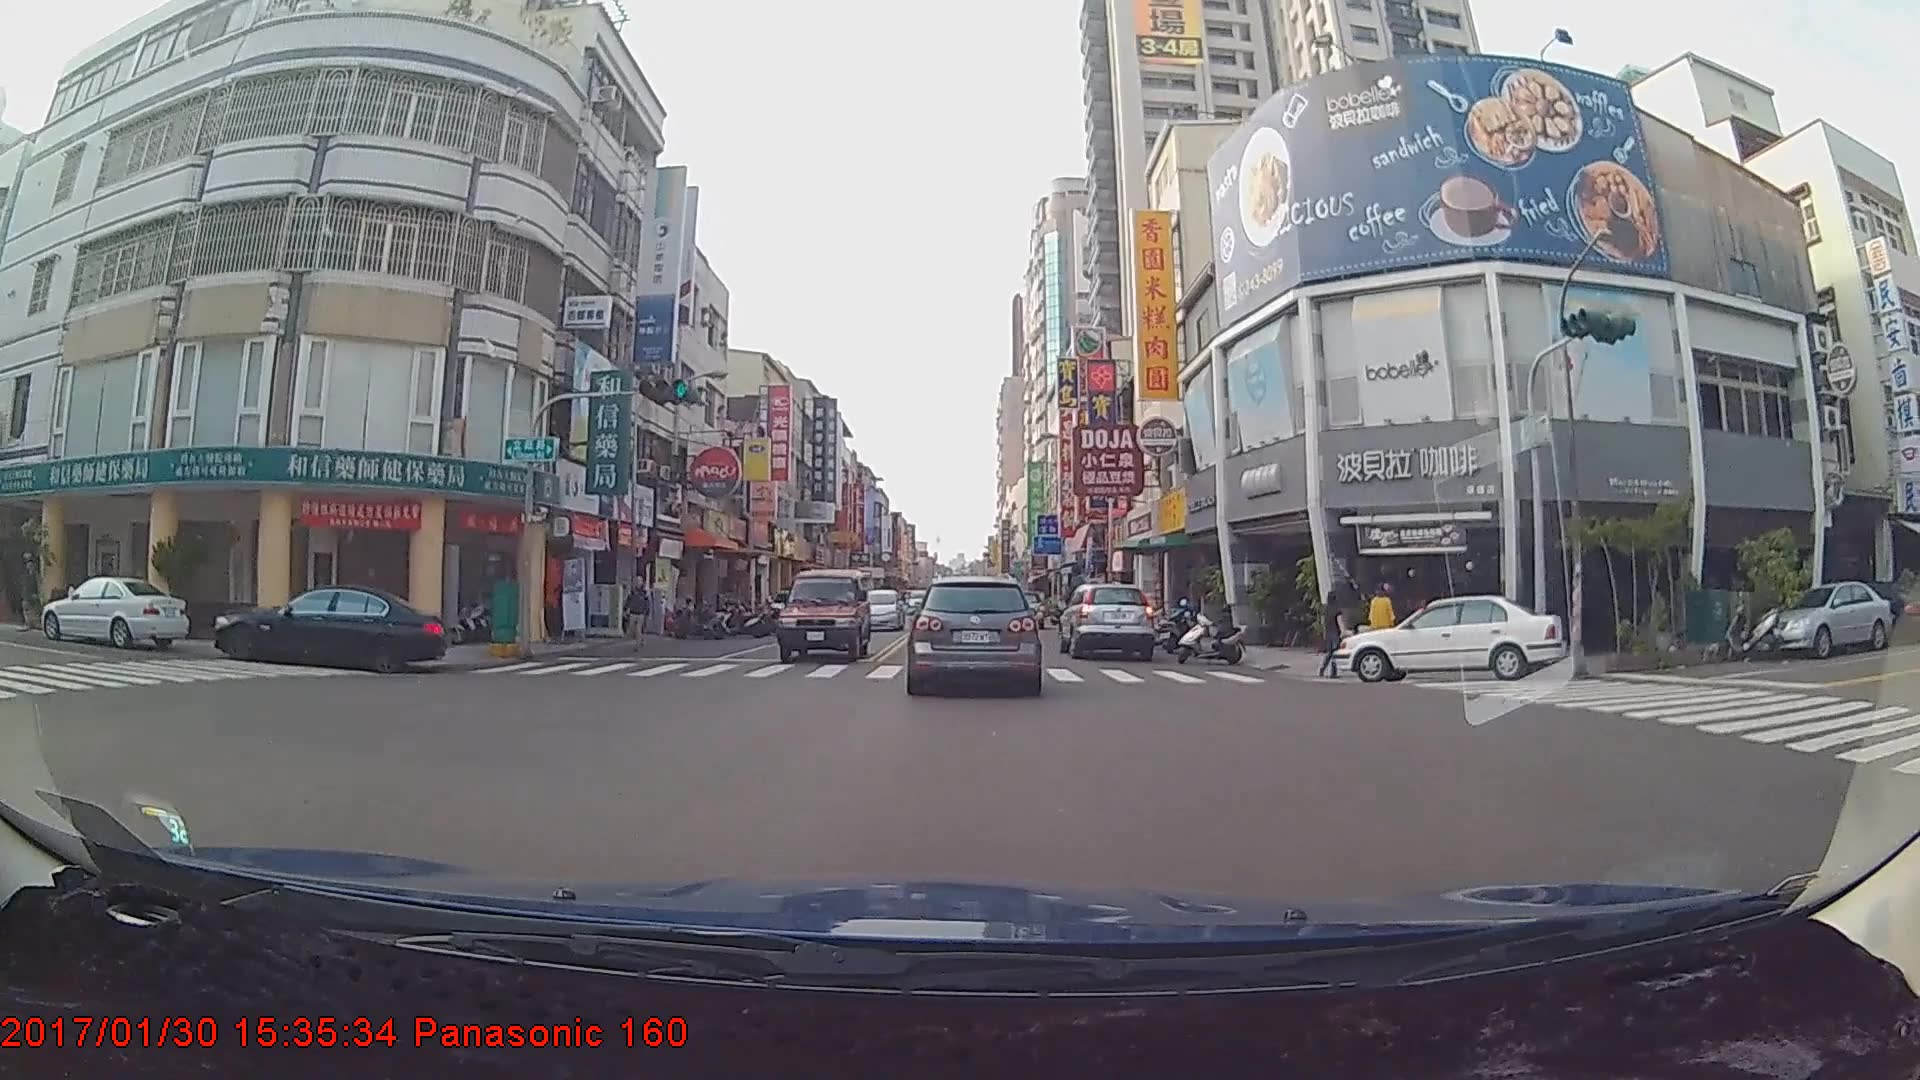pedestrian: (1366, 585, 1402, 668), (1316, 594, 1349, 681), (621, 577, 653, 651)
vehicle: (1331, 593, 1570, 685), (211, 582, 446, 674), (909, 575, 1037, 692), (41, 576, 189, 655), (1758, 581, 1891, 658), (773, 567, 870, 664), (1059, 582, 1155, 660), (855, 588, 906, 631)
